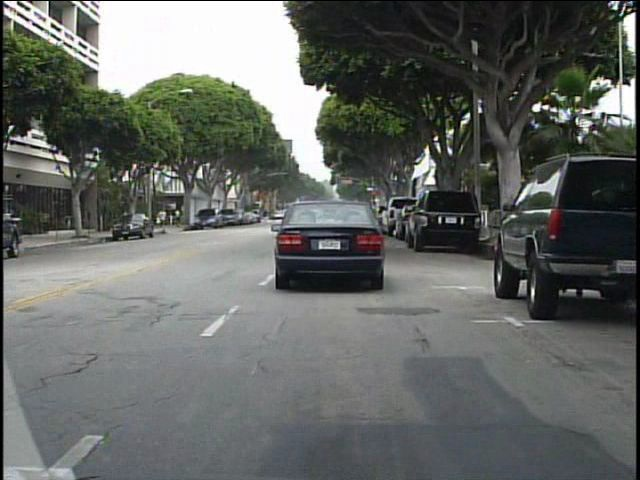person: (155, 205, 170, 232), (173, 203, 186, 230)
